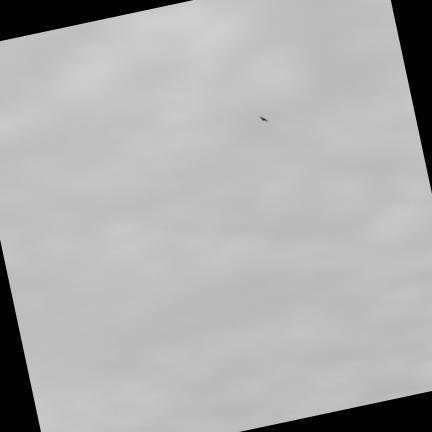Shahed: (260, 117, 267, 121)
